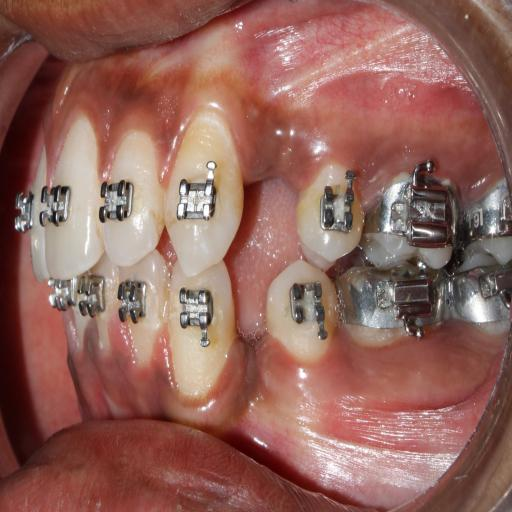correct_brace: (294, 165, 364, 268), (99, 172, 135, 228), (38, 176, 74, 230), (176, 176, 219, 220)
incorrect_brace: (100, 134, 166, 264), (316, 180, 359, 240)
